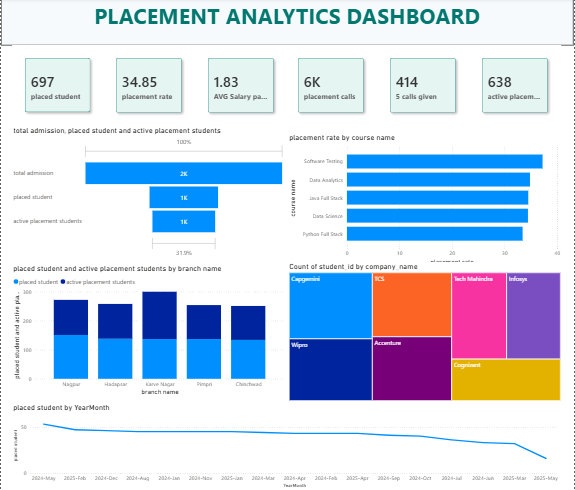

Layout of this report page (visuals, bound fields, positions):
{"tool":"powerbi","page":{"name":"Page 4","canvas":[1280,1100],"ordinal":3},"visuals":[{"type":"textbox","box":[0,0,1280,105.7],"z":0},{"type":"cardVisual","fields":{"Data":["placement measures.placed student"]},"box":[23.5,105.9,204.4,179.4],"z":1000},{"type":"cardVisual","fields":{"Data":["Average metrics.Aveage salary"]},"box":[434.3,105.7,205.7,180],"z":2000},{"type":"cardVisual","fields":{"Data":["placement measures.placement calls"]},"box":[635.7,105.7,205.7,180],"z":3000},{"type":"cardVisual","fields":{"Data":["placement measures.5 calls given"]},"box":[841.4,105.7,205.7,180],"z":4000},{"type":"cardVisual","fields":{"Data":["placement measures.active placement students"]},"box":[1047.1,105.7,205.7,180],"z":5000},{"type":"cardVisual","fields":{"Data":["placement measures.placement rate"]},"box":[228.6,105.7,205.7,180],"z":6000},{"type":"funnel","fields":{"Y":["student measures.total admission","placement measures.placed student","placement measures.active placement students"]},"box":[22.1,285.3,616.2,300],"z":7000},{"type":"clusteredBarChart","fields":{"Y":["placement measures.placement rate"],"Category":["courses_dim.course name"]},"box":[639.7,302.9,616.2,300],"z":8000},{"type":"columnChart","fields":{"Category":["branches_dim.branch name"],"Y":["placement measures.placed student","placement measures.active placement students"]},"box":[22,595,616,300],"z":9000},{"type":"treemap","fields":{"Group":["placements.company_name"],"Values":["CountNonNull(students_dim.student_id)"]},"box":[639.7,589.7,616.2,314.7],"z":10000},{"type":"lineChart","fields":{"Y":["placement measures.placed student"],"Category":["DateTable.YearMonth"]},"box":[22.1,904.4,1230.9,195.6],"z":11000}]}

Visuals, with their boxes in screenshot pixels (x1, y1, x2, y2), scaled from the page's 1280x1100 canvas onto the 575x490 screenshot:
textbox: bbox=[0, 0, 574, 47]
cardVisual - placement measures.placed student: bbox=[11, 47, 102, 127]
cardVisual - Average metrics.Aveage salary: bbox=[195, 47, 288, 127]
cardVisual - placement measures.placement calls: bbox=[286, 47, 378, 127]
cardVisual - placement measures.5 calls given: bbox=[378, 47, 470, 127]
cardVisual - placement measures.active placement students: bbox=[470, 47, 563, 127]
cardVisual - placement measures.placement rate: bbox=[103, 47, 195, 127]
funnel - student measures.total admission x placement measures.placed student: bbox=[10, 127, 287, 261]
clusteredBarChart - placement measures.placement rate x courses_dim.course name: bbox=[287, 135, 564, 269]
columnChart - branches_dim.branch name x placement measures.placed student: bbox=[10, 265, 287, 399]
treemap - placements.company_name x CountNonNull(students_dim.student_id): bbox=[287, 263, 564, 403]
lineChart - placement measures.placed student x DateTable.YearMonth: bbox=[10, 403, 563, 489]
